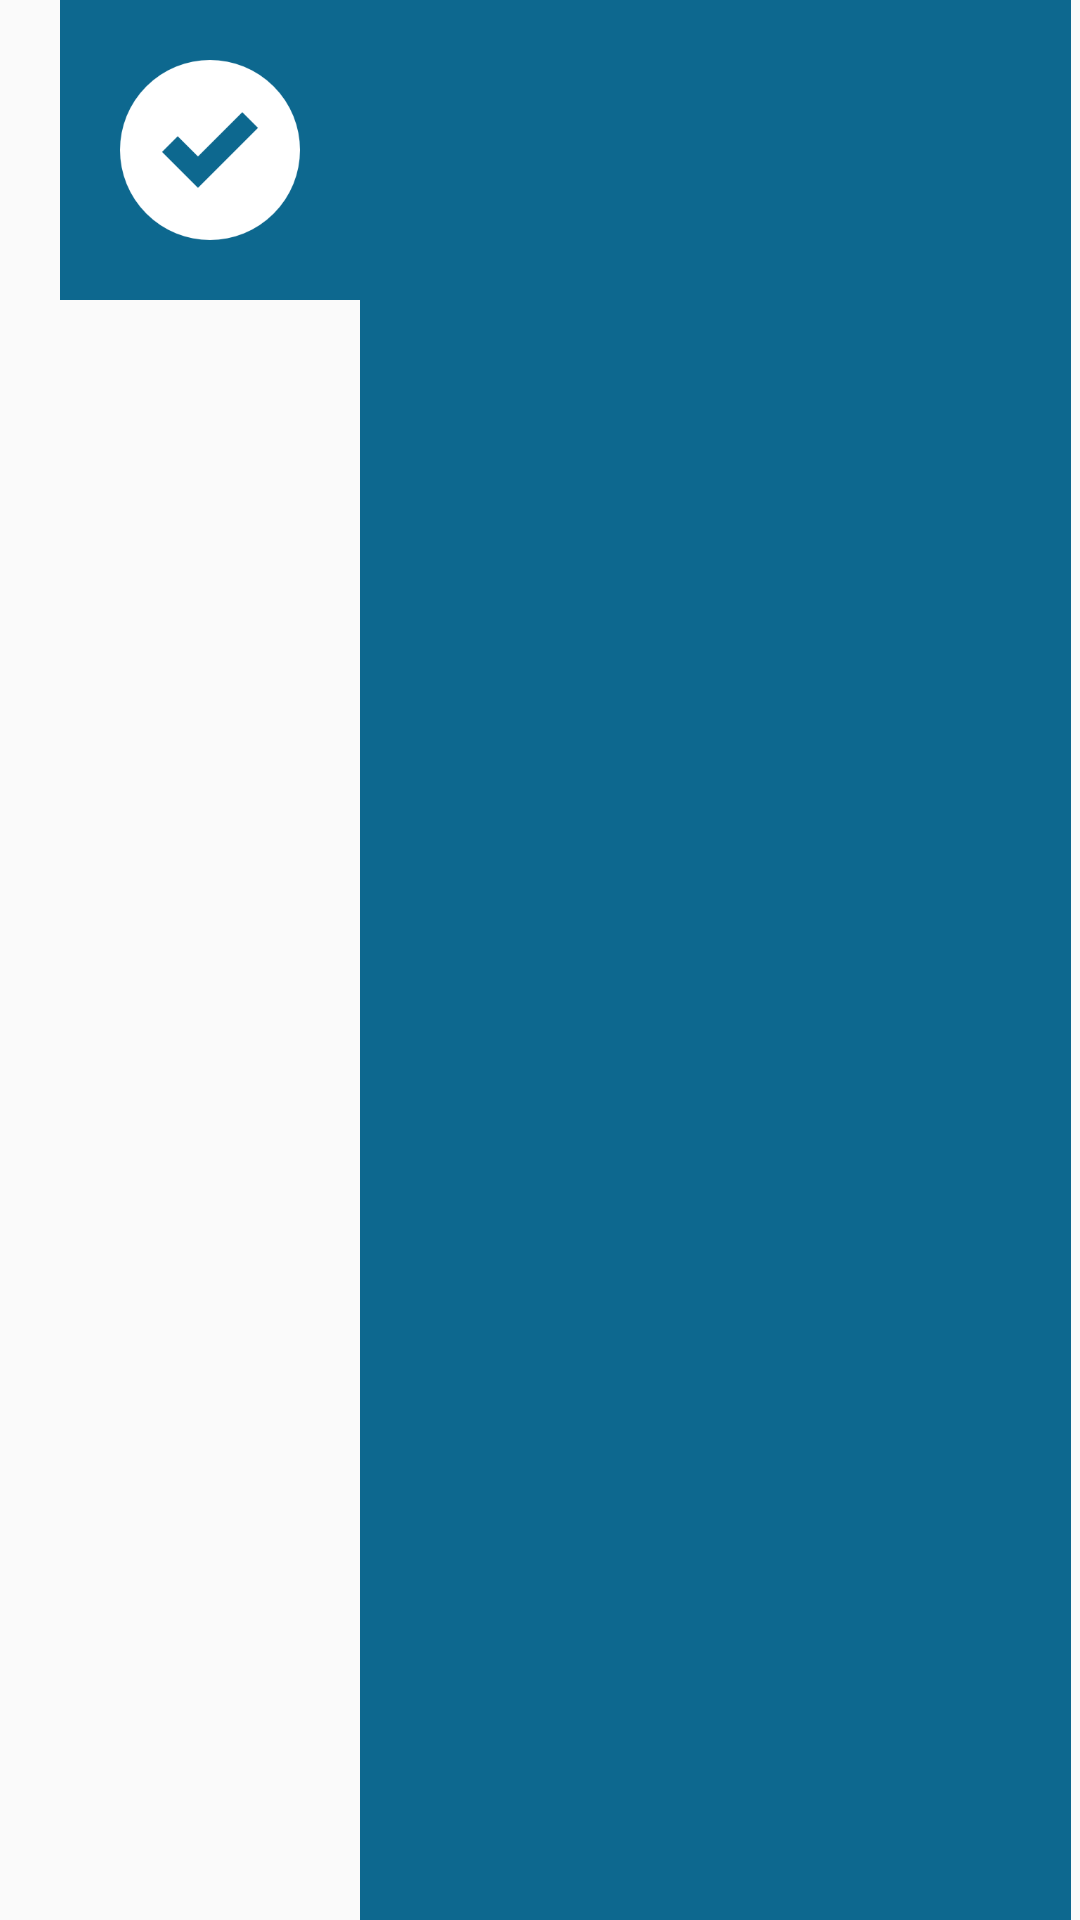

Where to tap for icons on this 1080 × 1920 app screen, as (x,y):
check mark: (210,150)
